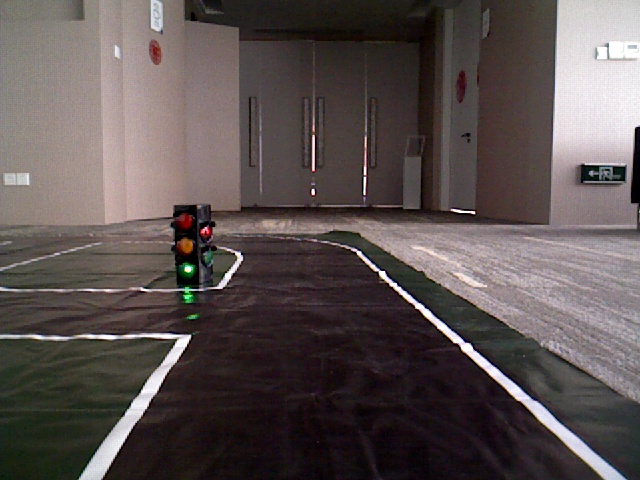green: (174, 206, 202, 277)
